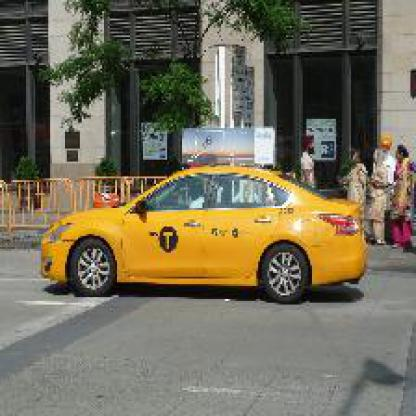not_emergency: (30, 147, 406, 327)
